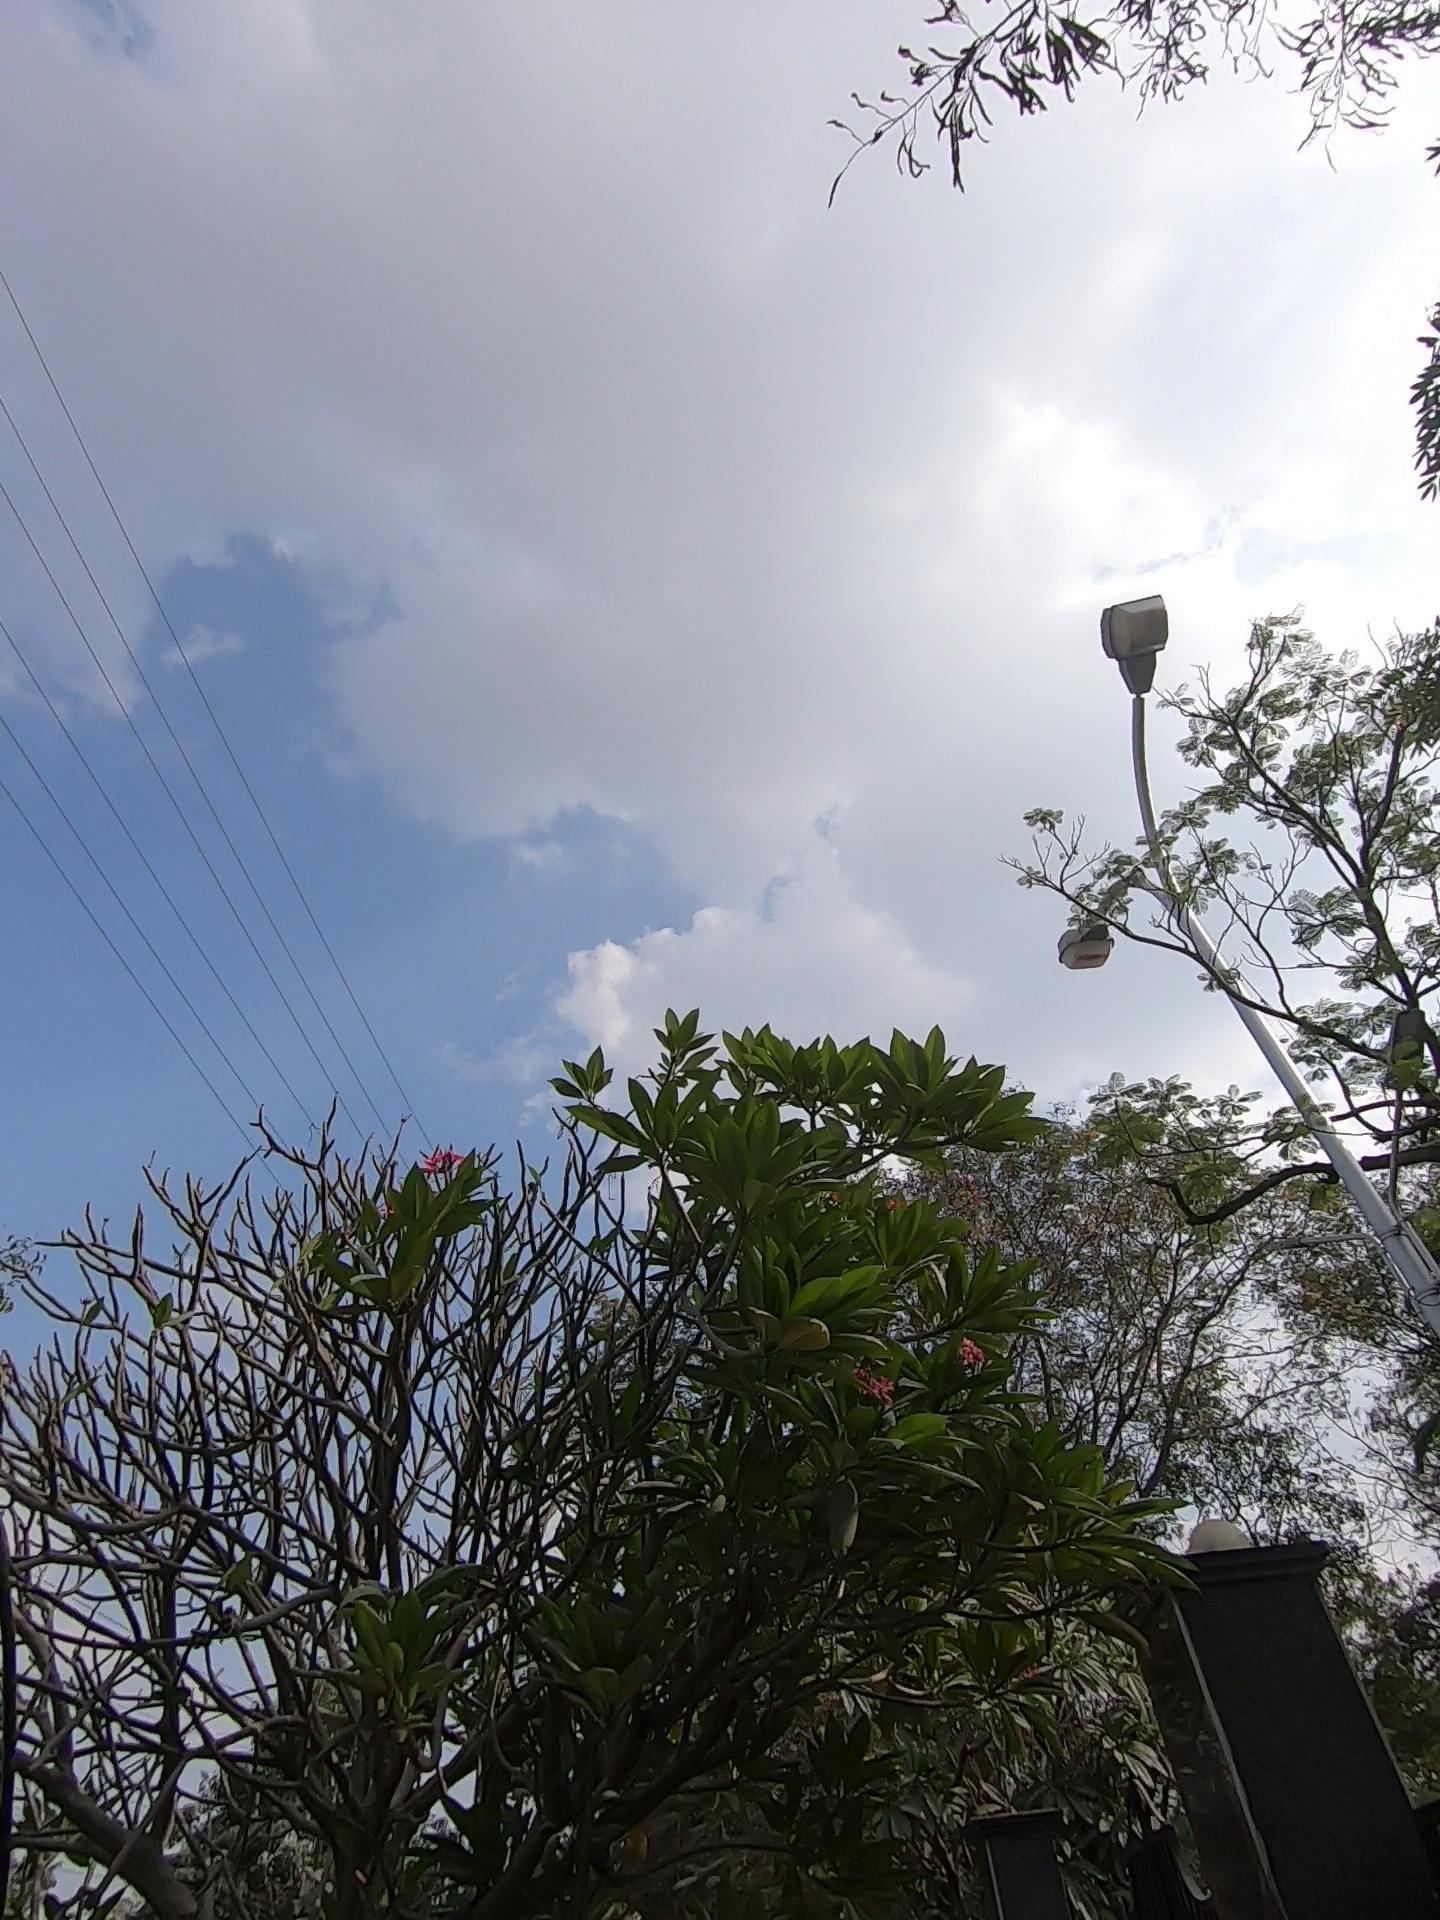off: (989, 506, 1263, 1036)
